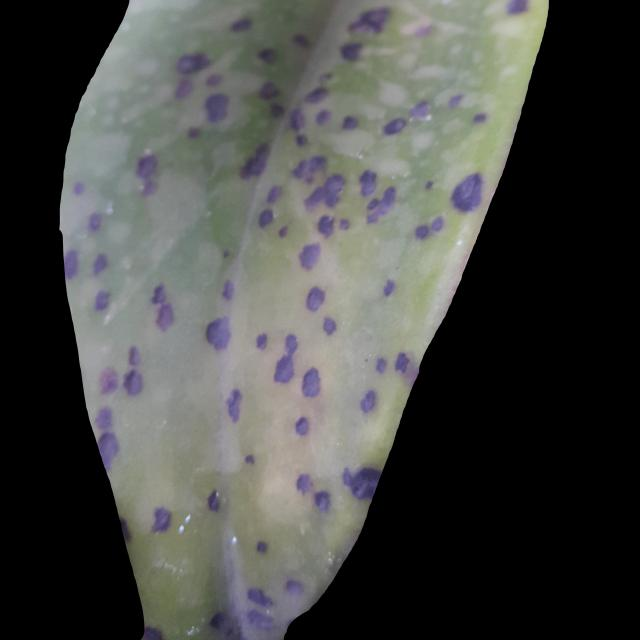mite: (174, 50, 211, 76), (203, 91, 231, 124), (300, 365, 322, 398), (304, 284, 326, 312), (316, 212, 336, 238), (257, 45, 278, 65), (205, 487, 221, 513), (257, 207, 275, 229), (293, 414, 310, 437), (255, 538, 269, 555)
